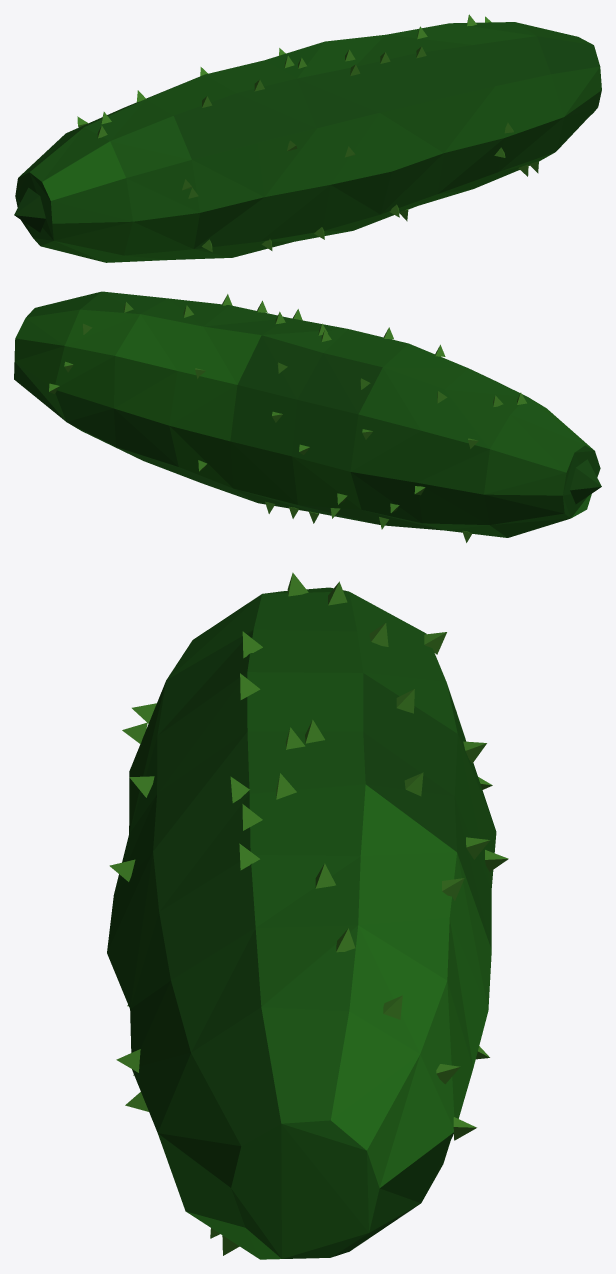
The model's file is cucumber_whole.obj.
The picture shows the model from 3 angles, top to bottom: view 1: azimuth 30°, elevation 25°; view 2: azimuth 150°, elevation 25°; view 3: azimuth 270°, elevation 25°; orthographic projection. The views are drawn at different scales.
Parts seen in each view (by area): view 1: Cuke_BodyA, Cuke_BodyC, Cuke_BodyB, Cuke_Bumps; view 2: Cuke_BodyA, Cuke_BodyB, Cuke_BodyC, Cuke_Bumps; view 3: Cuke_BodyA, Cuke_BodyC, Cuke_BodyB, Cuke_Bumps.
Part boxes in pixels (x1,y1,x2,y2): Cuke_BodyA: (15,22,601,249); Cuke_BodyC: (14,36,600,232); Cuke_BodyB: (41,108,597,262); Cuke_Bumps: (77,14,538,252); Cuke_BodyA: (14,291,600,537); Cuke_BodyB: (14,309,593,509); Cuke_BodyC: (70,335,601,530); Cuke_Bumps: (49,294,526,542); Cuke_BodyA: (107,587,496,1258); Cuke_BodyC: (153,630,457,1257); Cuke_BodyB: (186,784,491,1259); Cuke_Bumps: (109,572,508,1255).
Size of the model in its own units: 5.65 by 1.72 by 1.72.
